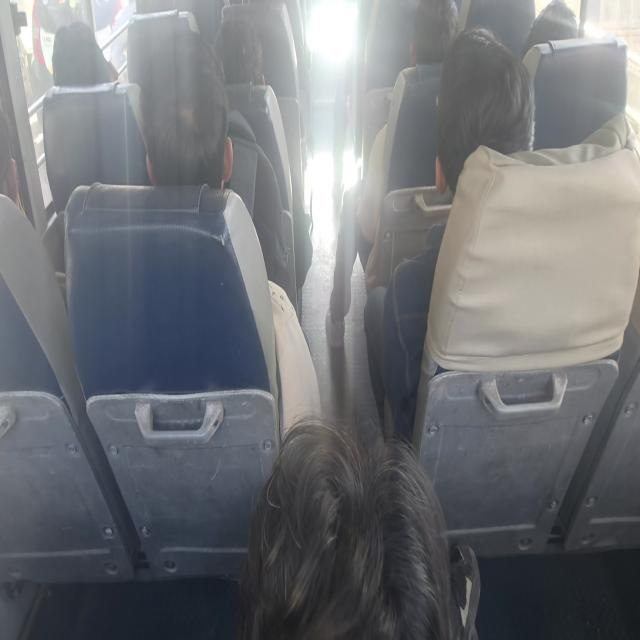person: (363, 25, 535, 443), (239, 415, 479, 638), (131, 29, 298, 314), (325, 0, 459, 348), (136, 30, 234, 188), (51, 20, 114, 86), (214, 16, 265, 86), (0, 102, 20, 206)
